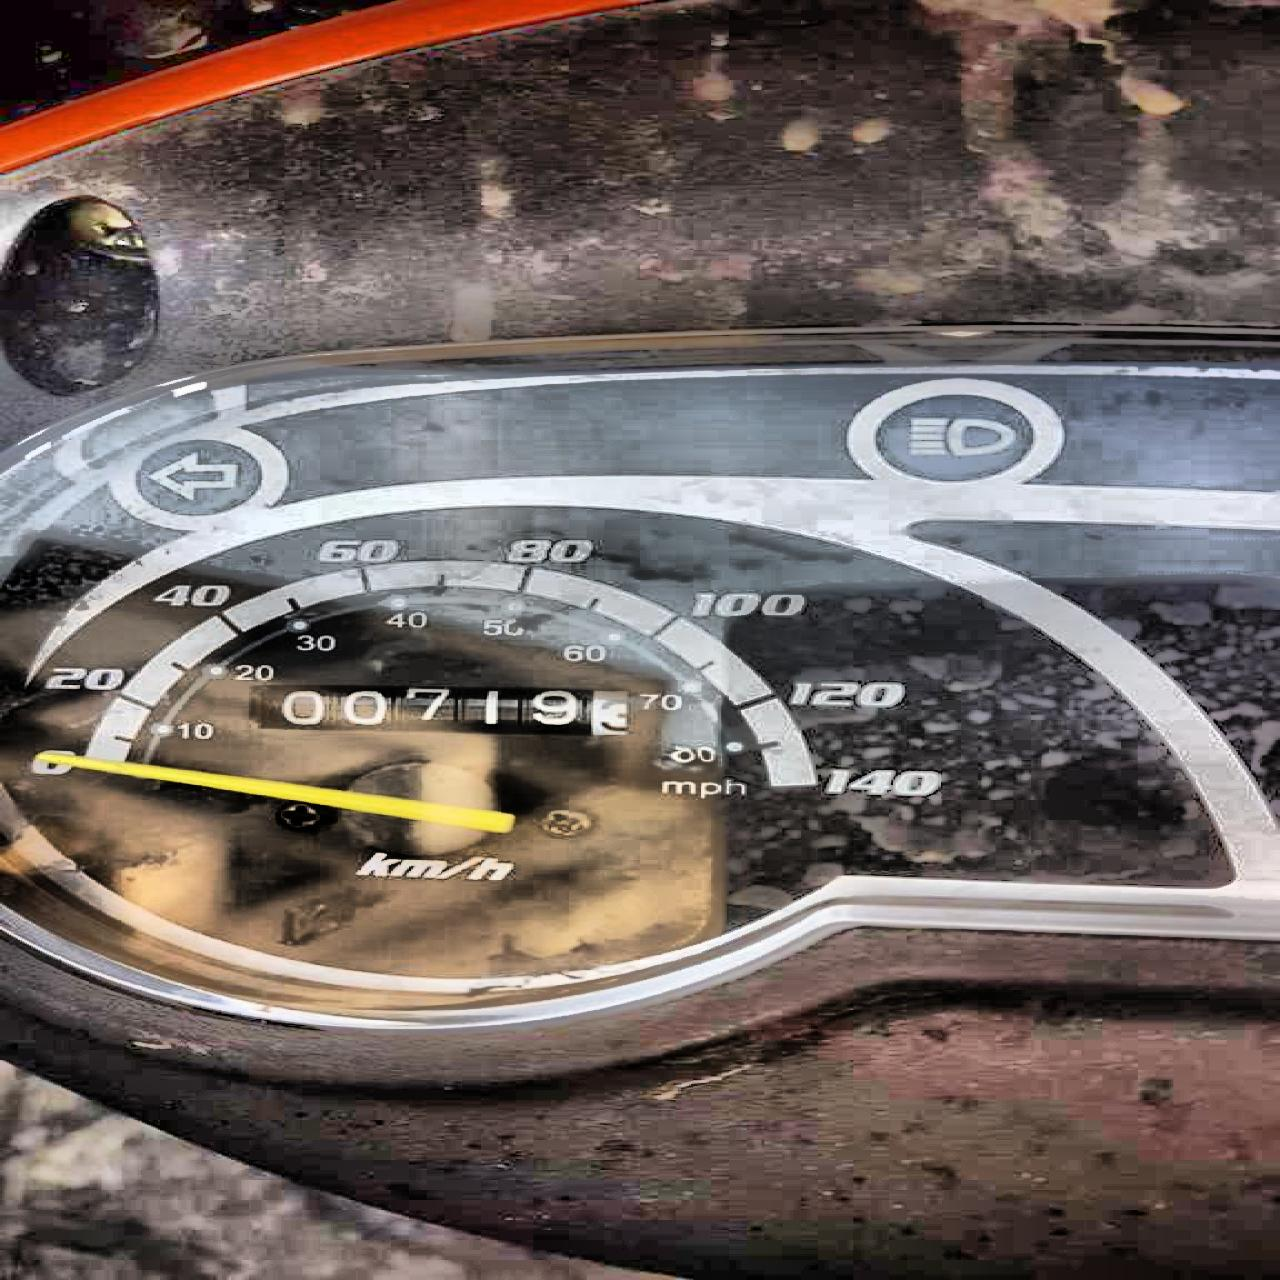0: (340, 688, 384, 723), (280, 690, 322, 726)
1: (482, 688, 498, 723)
3: (598, 697, 633, 730)
7: (402, 688, 449, 719)
9: (529, 688, 576, 723)
odometer: (243, 680, 628, 736)
